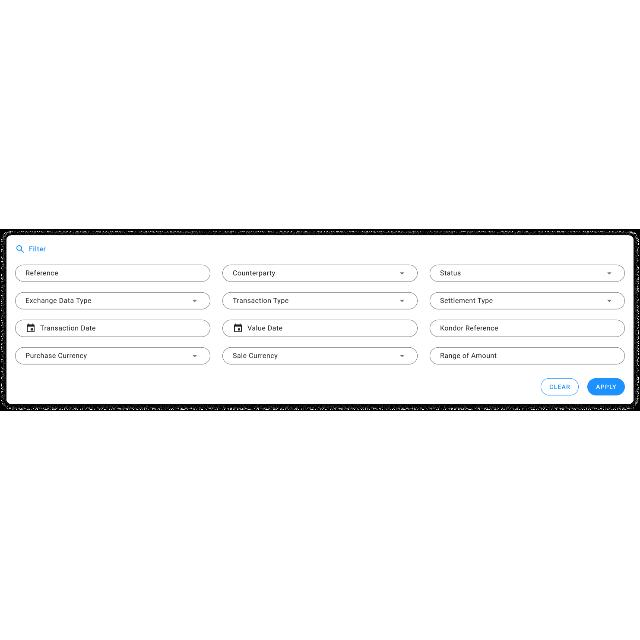QLabel: (548, 383, 572, 391), (594, 383, 618, 391), (28, 246, 46, 252)
VBtn: (587, 378, 625, 396), (541, 378, 579, 396)
VCard: (6, 234, 634, 406)
VCombobox: (222, 347, 418, 365), (222, 292, 418, 310), (222, 264, 418, 282), (16, 292, 210, 310), (16, 347, 210, 365), (430, 292, 624, 310), (430, 264, 624, 282)
VIcon: (14, 243, 26, 255)
VInlineDatepicker: (222, 320, 418, 338), (16, 320, 210, 338)
VTextField: (16, 264, 210, 282), (430, 320, 624, 338), (430, 348, 624, 364)
